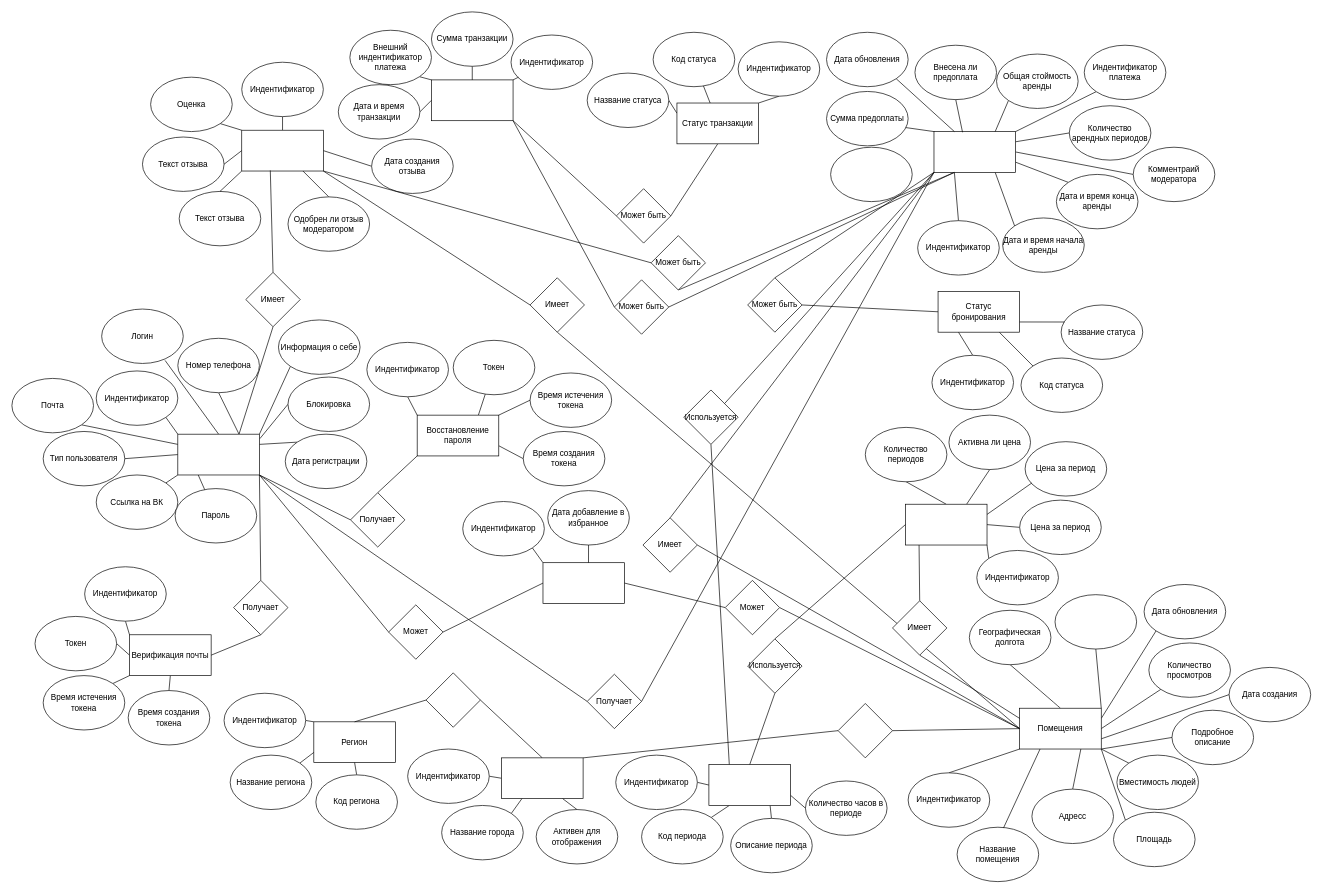
Some shapes in this 1323 by 894 pixel diagram are drawn without their labels. The shapes that lost their labels are listed below. From the top down, each one's centre as x and y in pixels, then its label:
At (472,100): "Транзакции".
At (282,150): "Отзывы".
At (974,151): "Бронирование".
At (871,174): "Дата создания бронирования".
At (218,454): "Пользователь".
At (946,524): "Стоймость помещения".
At (583,583): "Избранные".
At (1095,621): "Географическая широта".
At (452,699): "Хранит".
At (865,730): "Находятся".
At (542,778): "Город".
At (749,784): "Стоймость периода".
